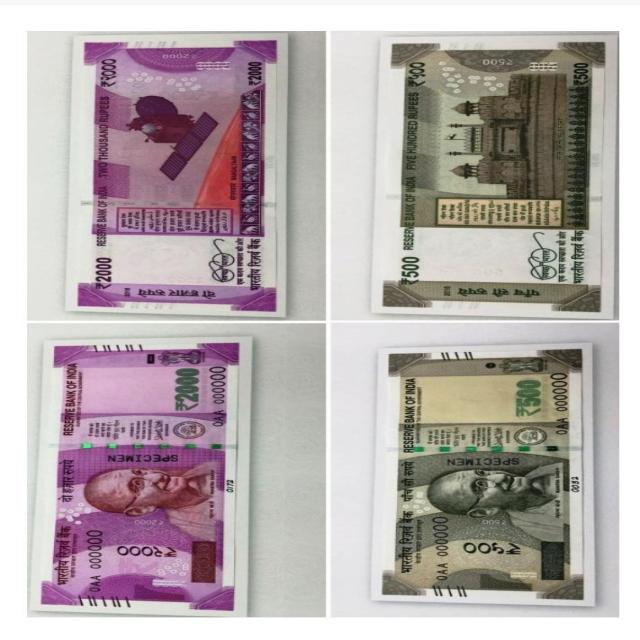500IndianRupees: (374, 35, 611, 312)
